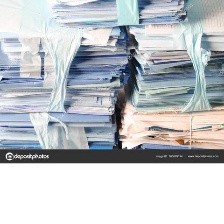book: (0, 22, 132, 149), (123, 18, 223, 111), (111, 89, 224, 149), (49, 0, 189, 28)
